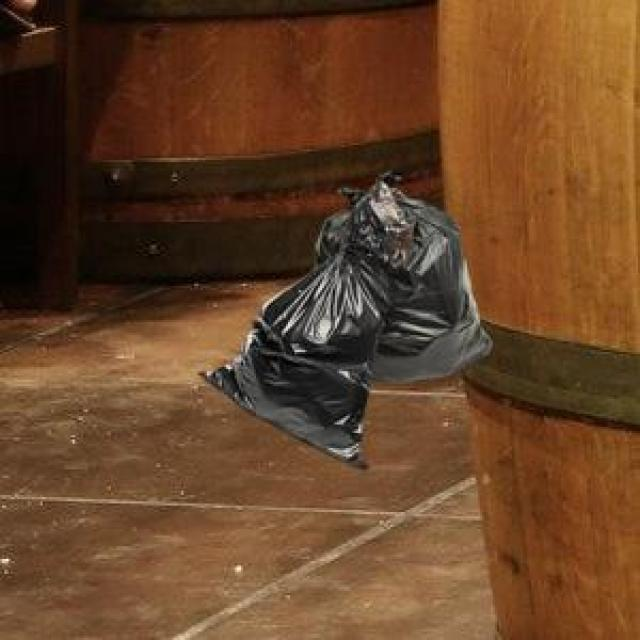Trashbag: (194, 250, 396, 474), (313, 162, 498, 388)
